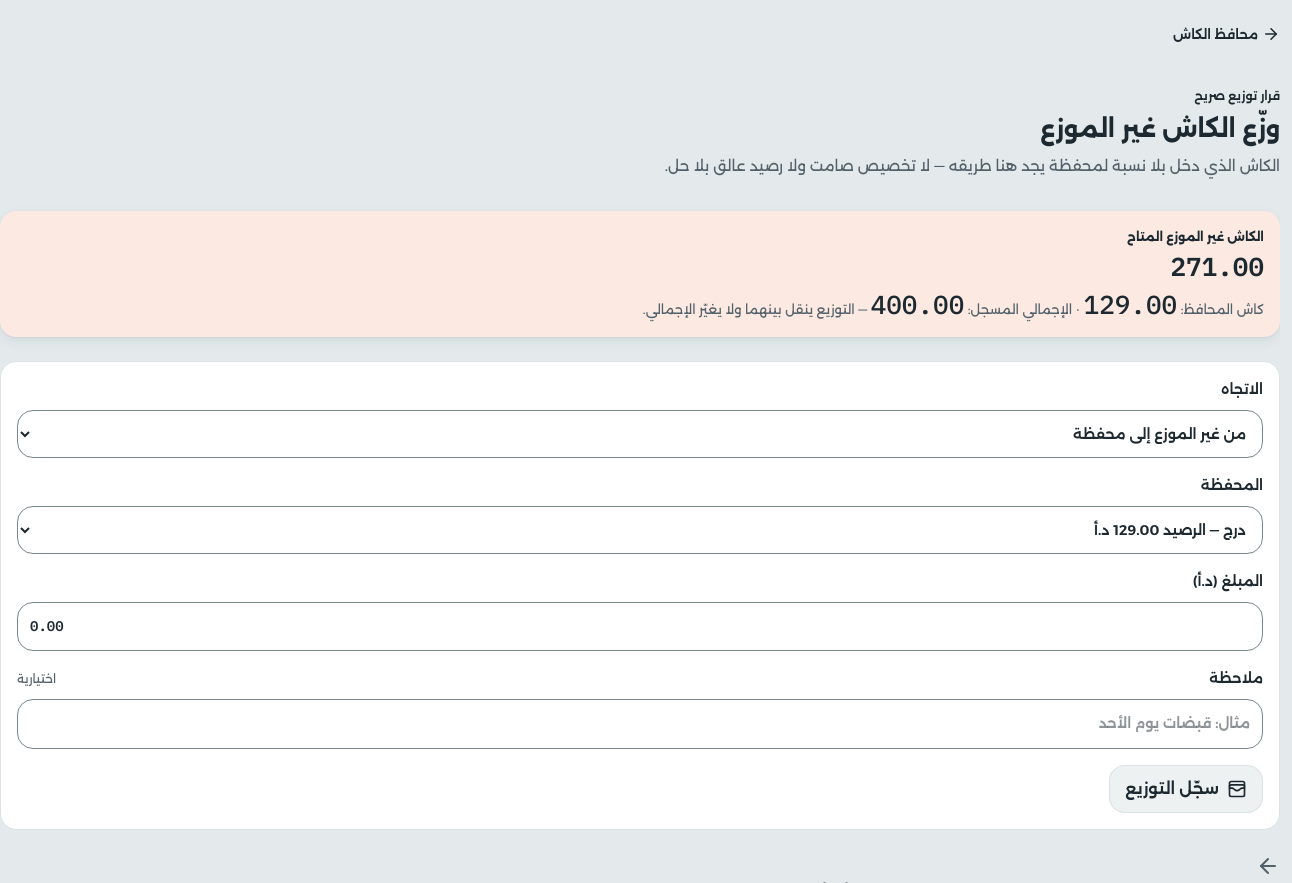
Test: CashDistribution journeys (Group 11-E) › distributes unallocated cash into a wallet with an exact documented amount
The image size is (1292, 883).
Expected: the heading "وزّع الكاش غير الموزع" is shown, x1=1040 y1=114 x2=1280 y2=143
Expected: the element named "نموذج التوزيع" is shown, x1=0 y1=361 x2=1280 y2=830
Replace the text in the field named "مبلغ التوزيع" with "271" at (640, 626), box x1=17 y1=602 x2=1263 y2=651
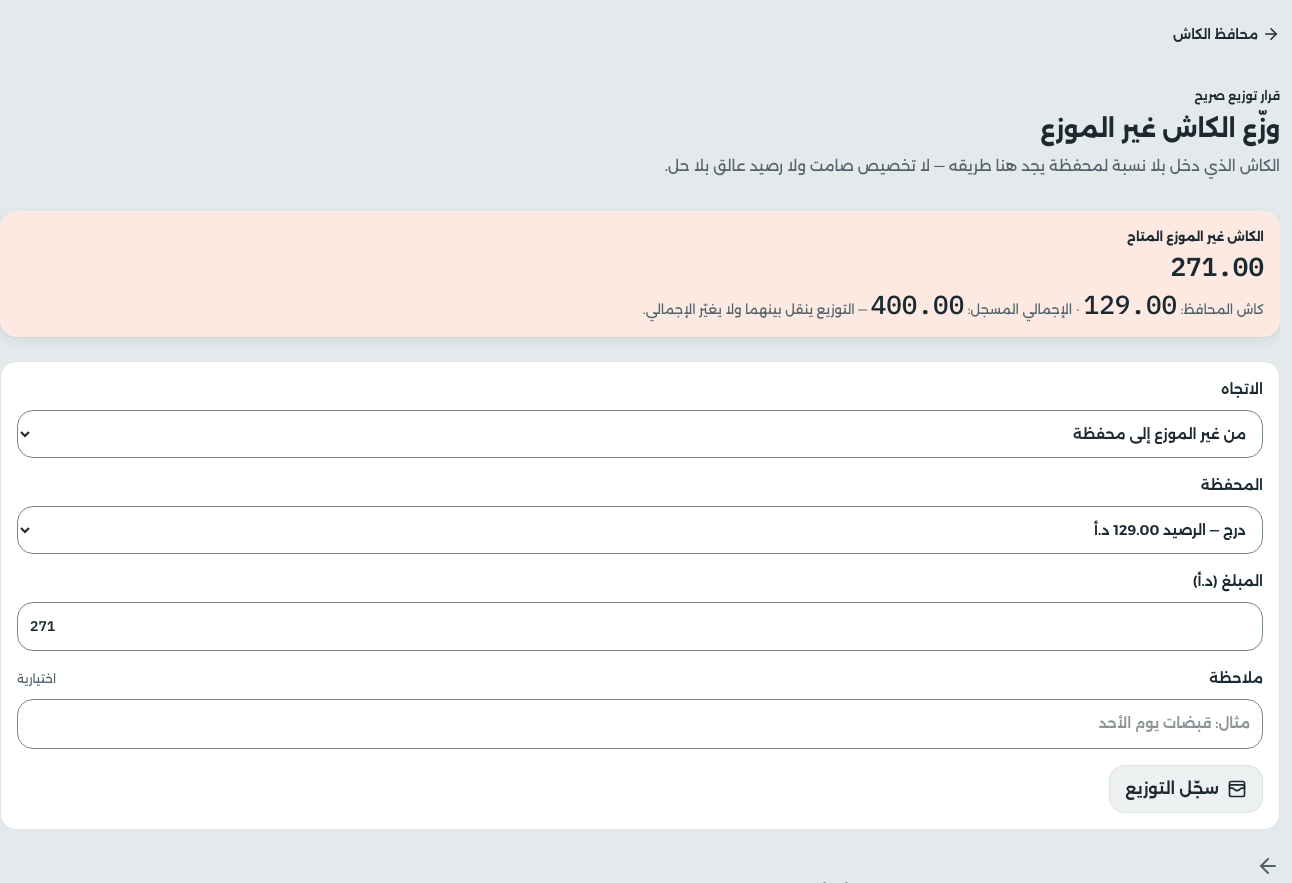
Click the button "سجّل التوزيع" at (1186, 789), box x1=1109 y1=765 x2=1263 y2=813
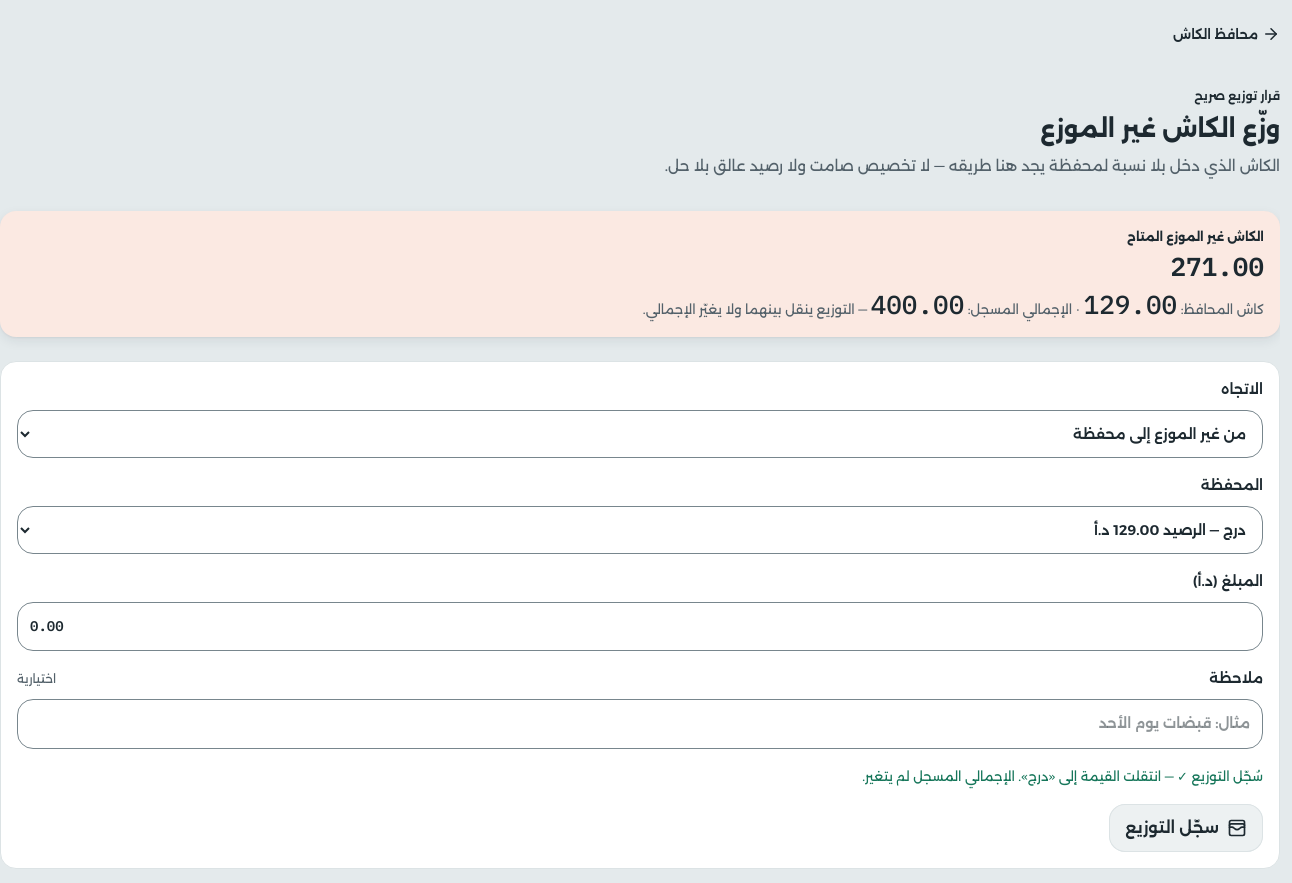
Result: the text "سُجّل التوزيع ✓ — انتقلت القيمة إلى «درج». الإجمالي المسجل لم يتغير." is shown at x1=862 y1=768 x2=1263 y2=784
